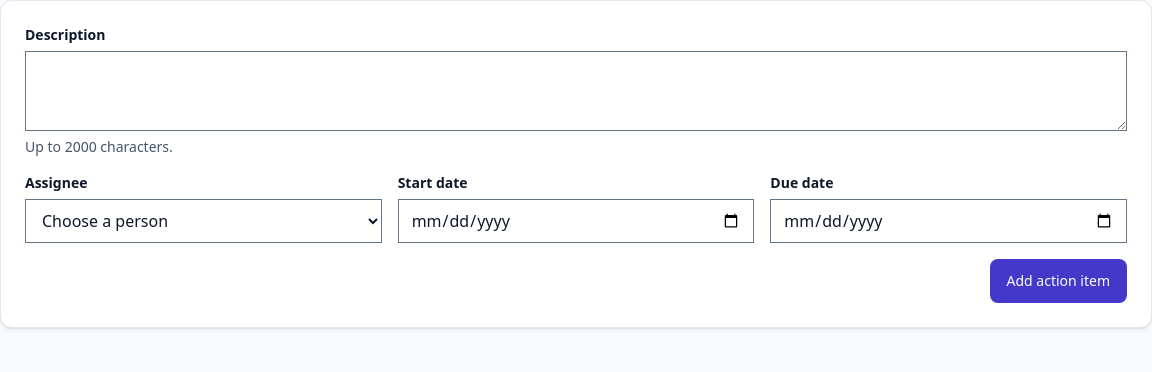
it: ActionItemForm › blocks submit when the due date is before the start date
Type "Prepare report" into the text box labelled "Description".
click(576, 91); type("Prepare report")  # box [25,51,1127,131]
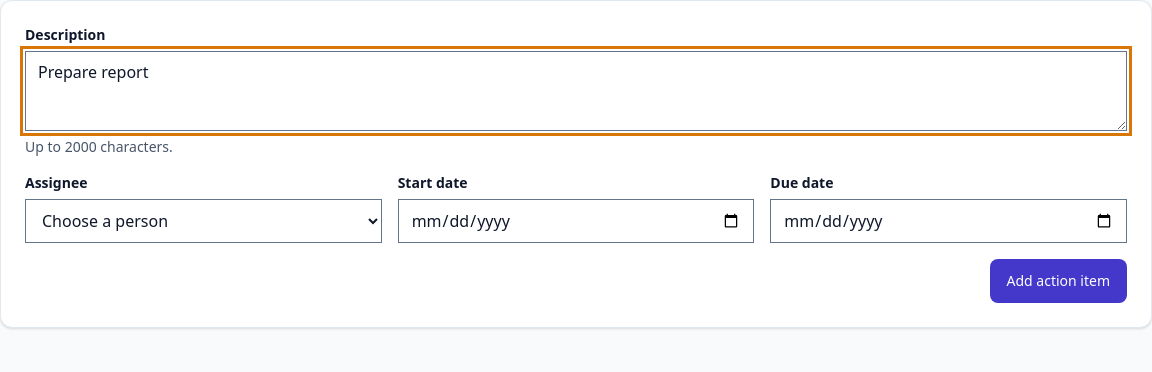
Select "Arjun" in the dropdown labelled "Assignee" at {"x": 203, "y": 221}, box [25,199,382,243]
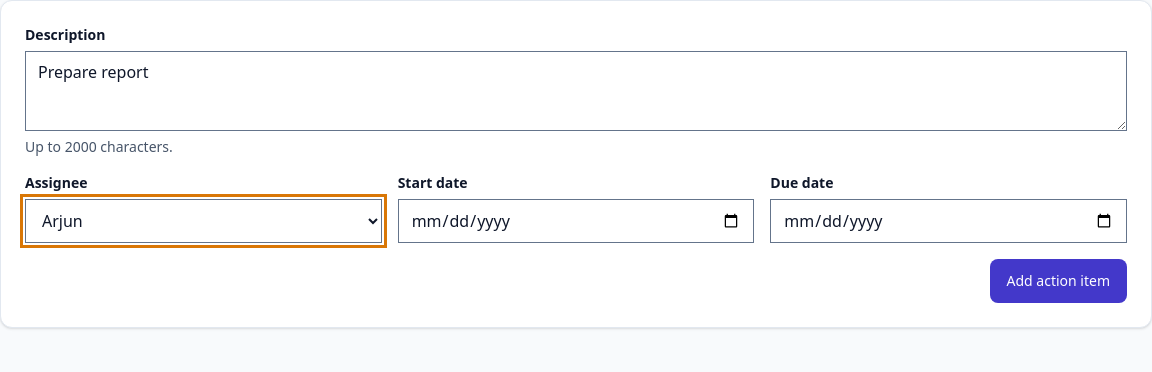
Type "2026-10-20" into the date field labelled "Start date".
click(576, 221); type("2026-10-20")  # box [398,199,754,243]
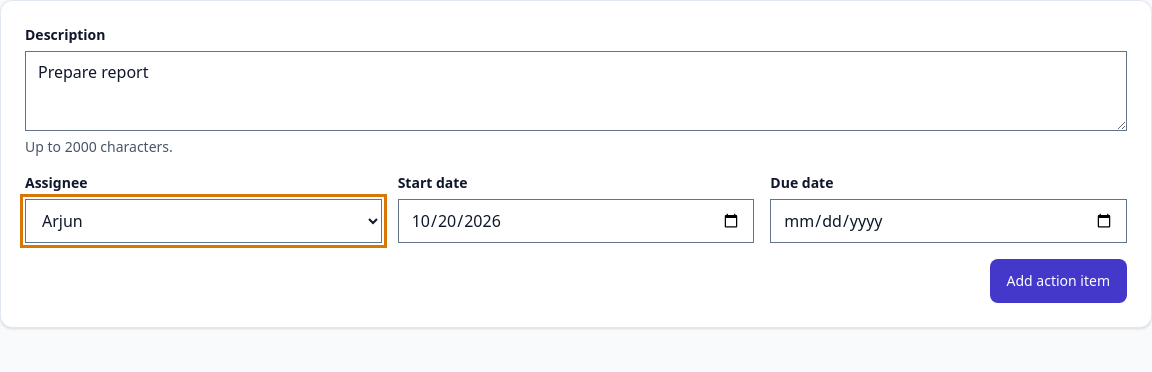
Type "2026-10-19" into the date field labelled "Due date".
click(949, 221); type("2026-10-19")  # box [770,199,1127,243]
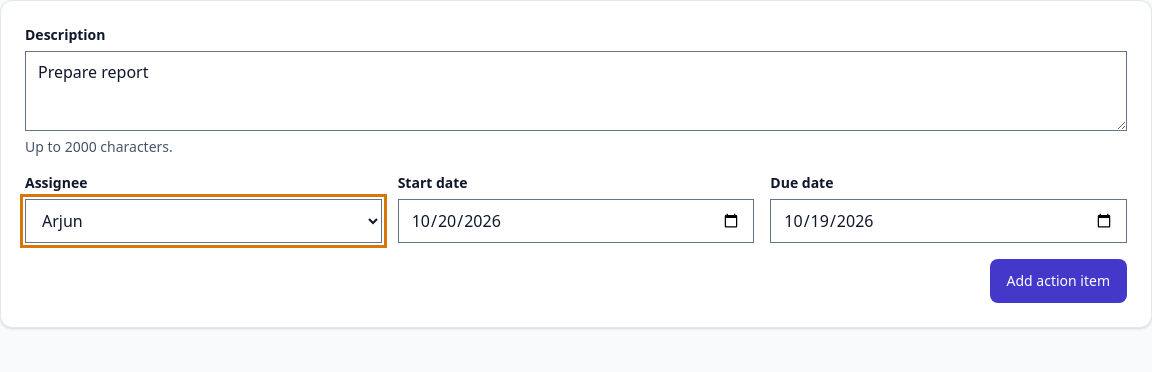
Click the button "Add action item".
click(1058, 281)  # box [990,259,1127,303]
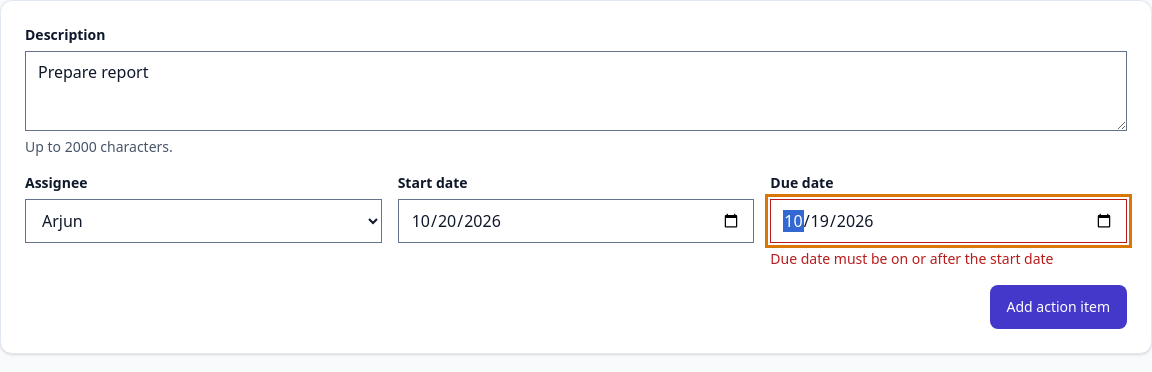
Expected: the text "Due date must be on or after the start date" is shown, [770,249,1054,268]
